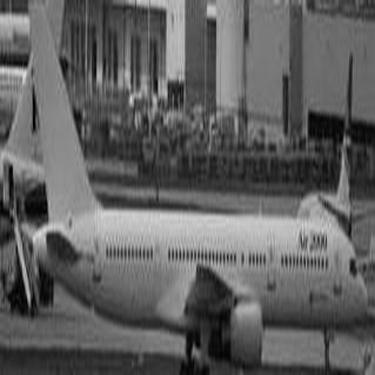airplane: (2, 1, 372, 371), (278, 6, 372, 264), (1, 34, 89, 149), (86, 3, 111, 340), (1, 1, 76, 74)
